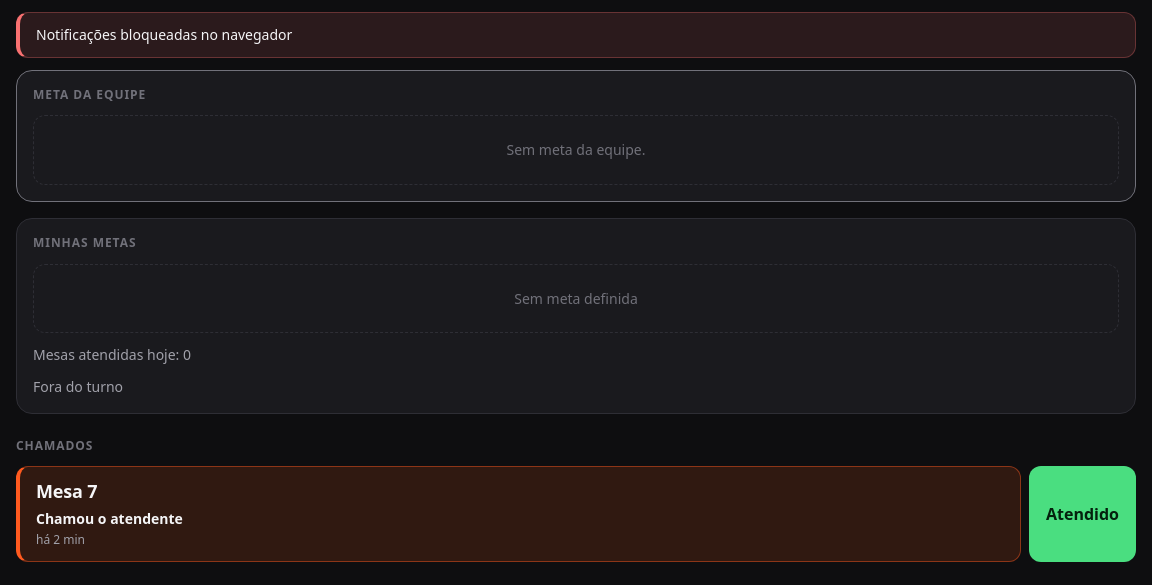
Scenario: Início › Atendido resolve
This screenshot has width=1152, height=585.
Click the button "Atendido" at (1082, 514), box [1029, 466, 1136, 562]
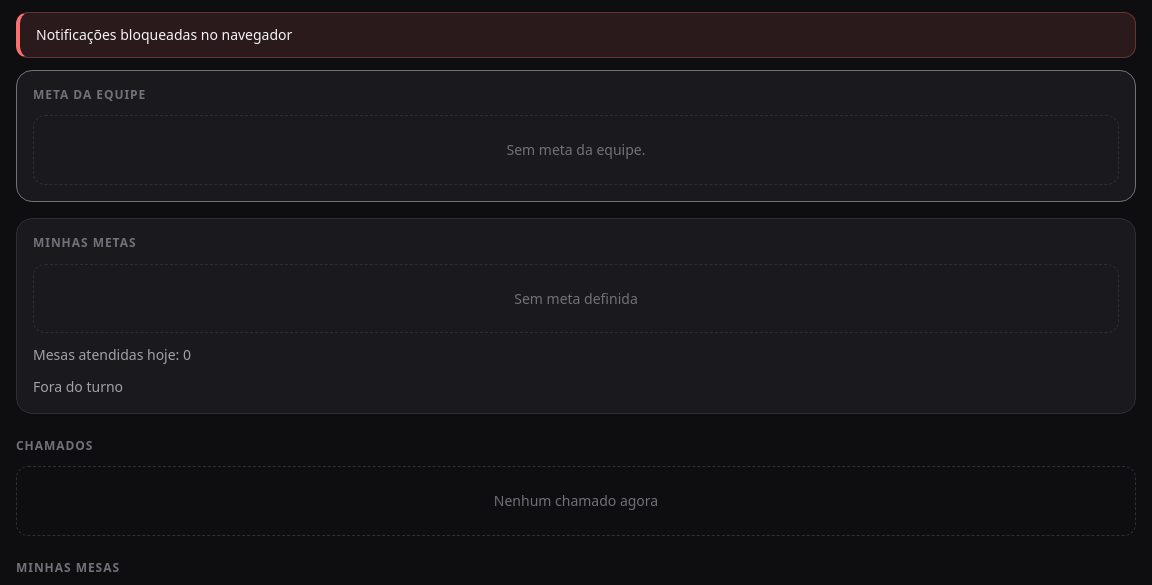
Now the text "Nenhum chamado agora" is shown, box [16, 466, 1136, 536]
